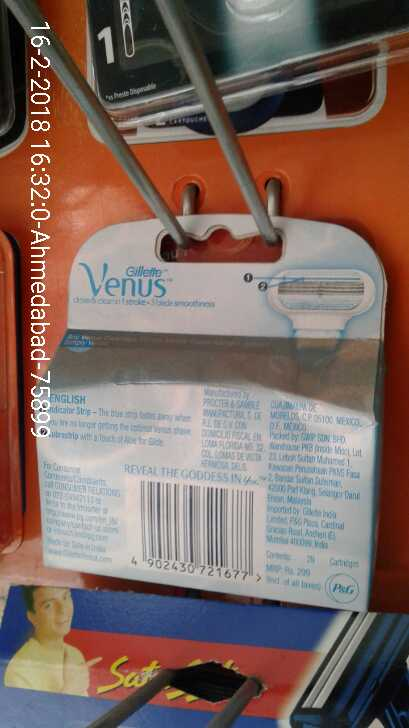reject: (288, 131, 388, 255)
